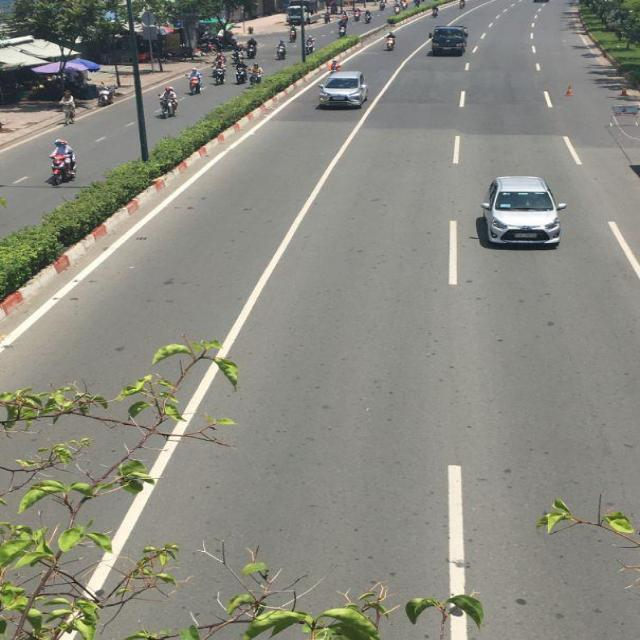car: (477, 177, 565, 250), (318, 72, 366, 110)
motorcycle: (47, 146, 77, 186), (160, 87, 177, 117), (189, 71, 202, 95)
truck: (429, 28, 466, 58)
